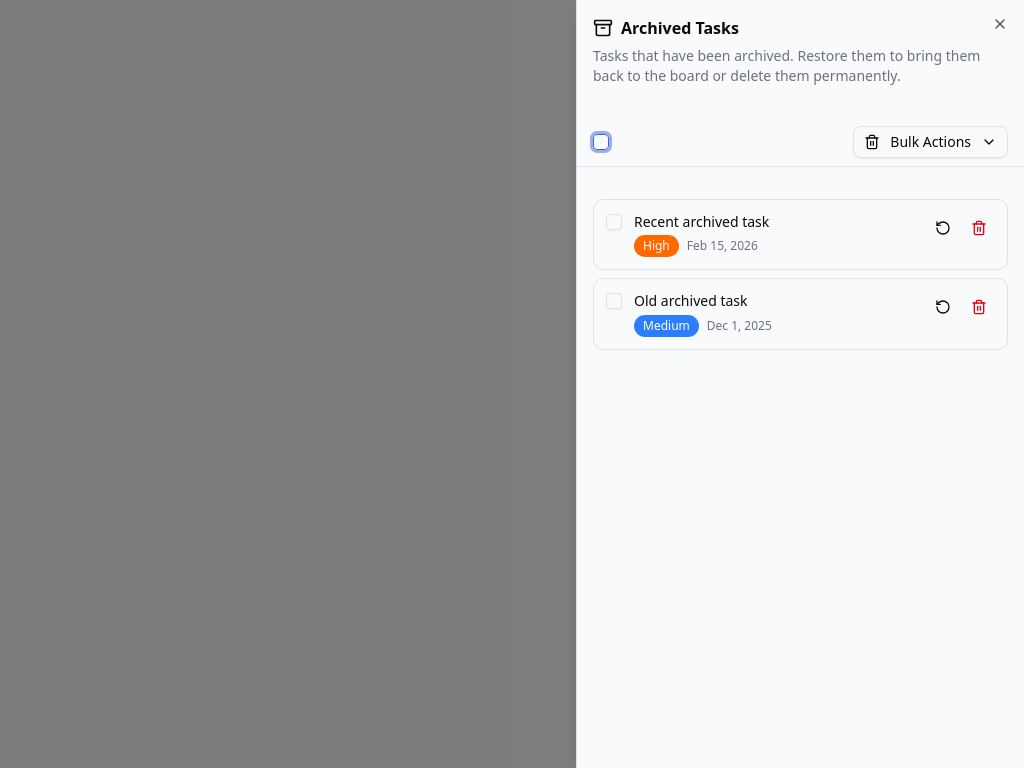
Scenario: ArchivedTasksSheet › resets selection after successful delete
Click the checkbox named "select recent archived task": (614, 222) 606,214 -> 622,230
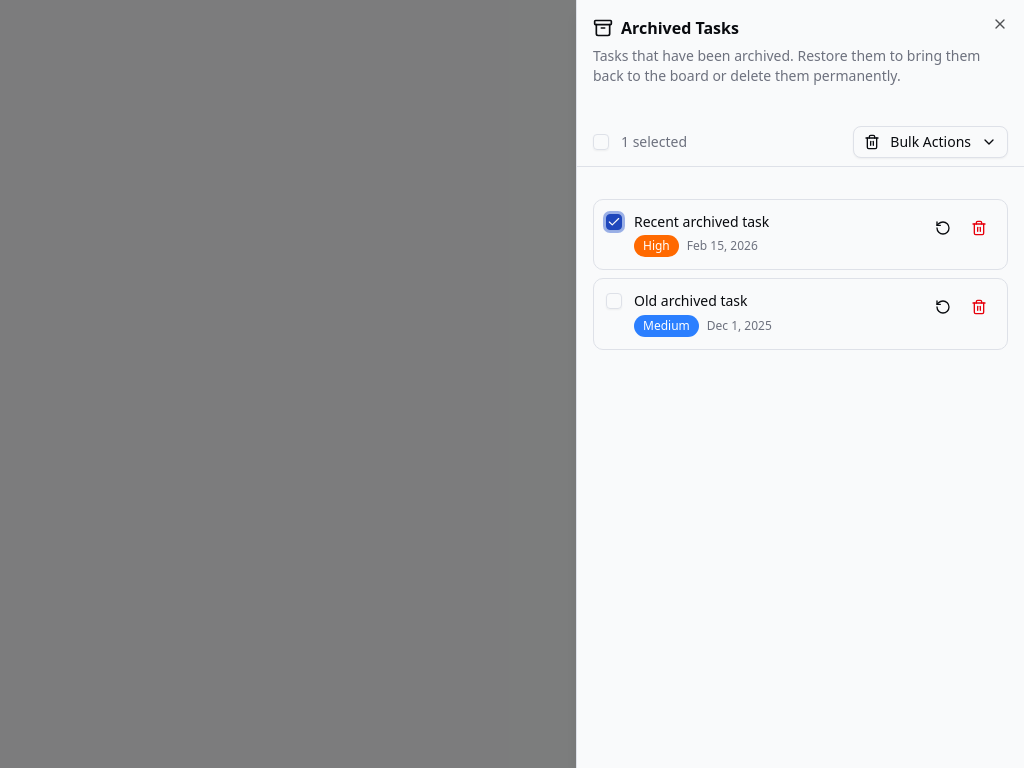
Check: the text "1 selected" is shown, box 621,132 -> 687,152
Delete selected via dropdown
Click the button "Bulk Actions": (931, 142) 853,126 -> 1008,158
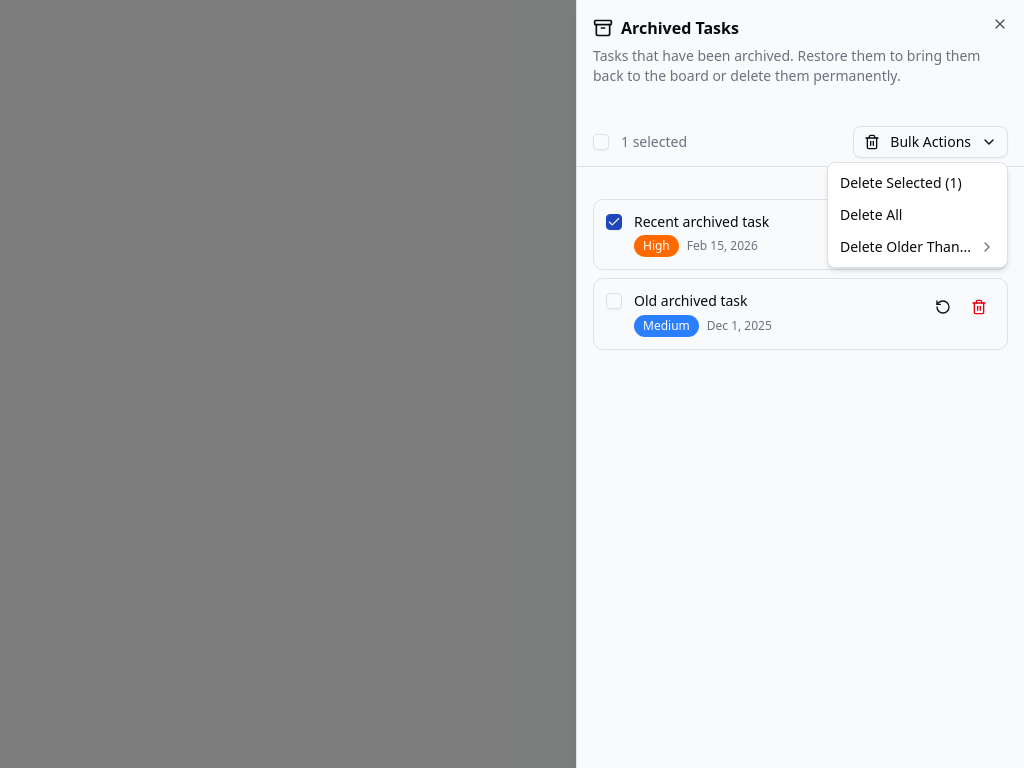
Click the menu item "Delete Selected (1)": (901, 182) 840,173 -> 962,192
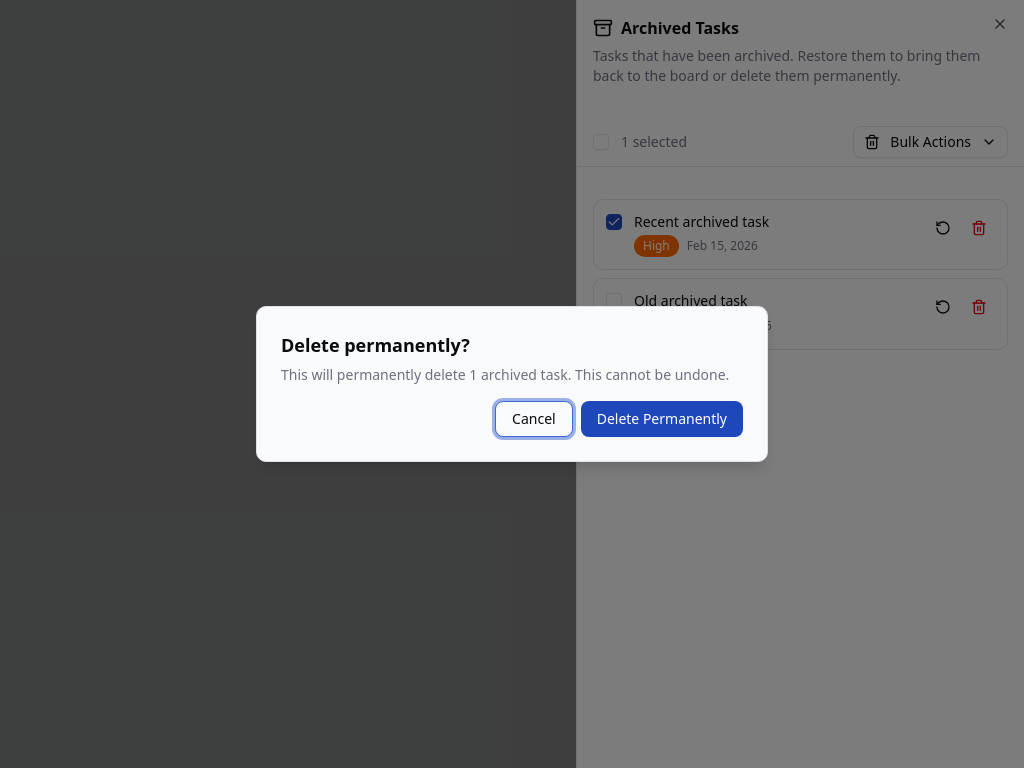
Click the button "Delete Permanently": (662, 419) 581,401 -> 743,437
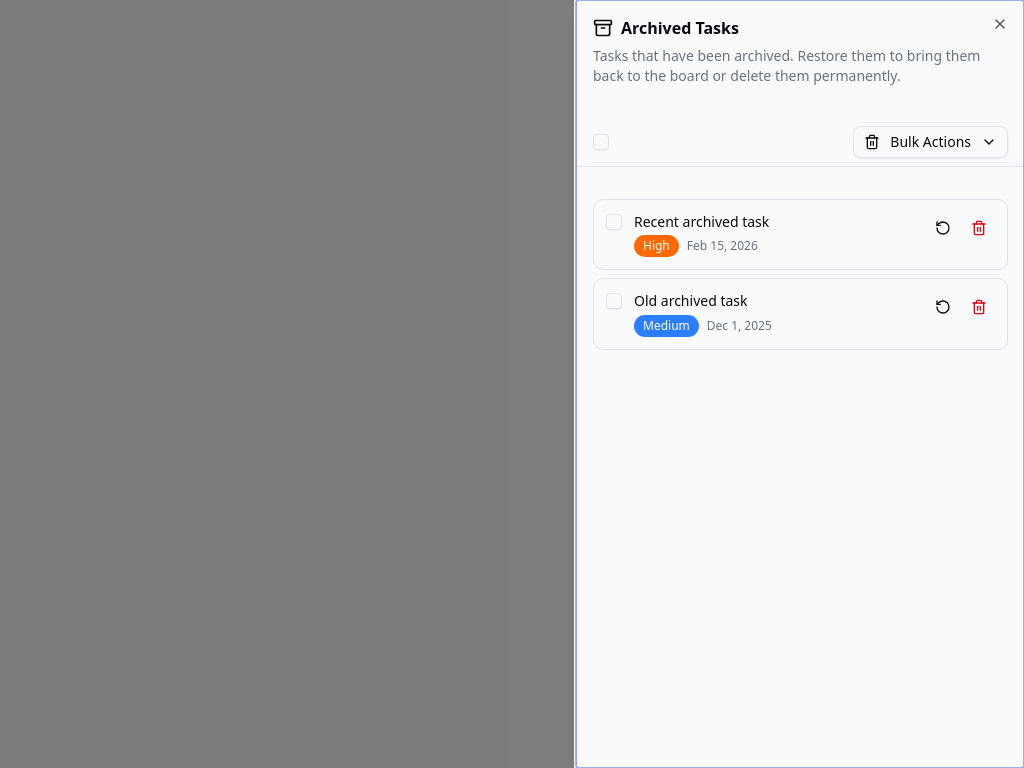
Check: the text "selected" is gone
